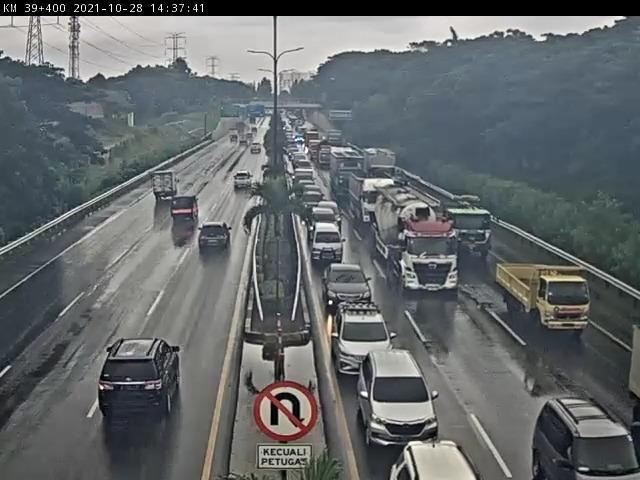car: (534, 393, 640, 480), (357, 350, 443, 445), (96, 333, 184, 419), (332, 299, 394, 372), (392, 439, 482, 480), (317, 262, 377, 313), (312, 221, 348, 267), (194, 221, 237, 254), (172, 195, 202, 223), (230, 166, 257, 194), (294, 165, 320, 190), (306, 209, 338, 226), (299, 186, 327, 204)
truck: (373, 182, 462, 296), (497, 253, 598, 341), (432, 189, 500, 255), (352, 174, 398, 229), (329, 145, 370, 202), (152, 168, 179, 202)
